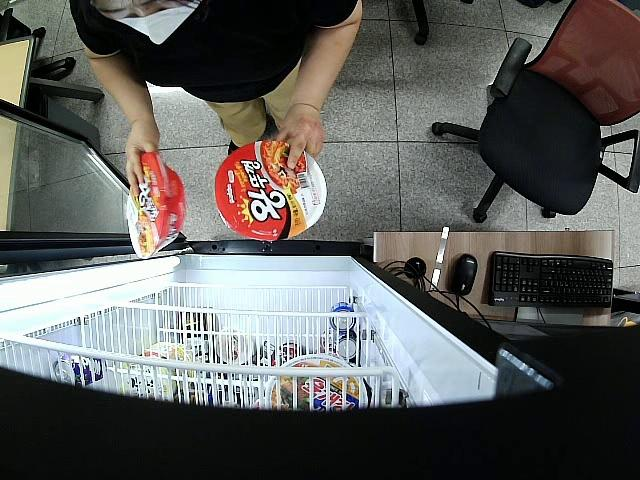00_hand: (272, 109, 325, 168), (123, 125, 159, 197)
10_wangTtukkeong: (215, 140, 325, 240), (124, 151, 186, 260)
